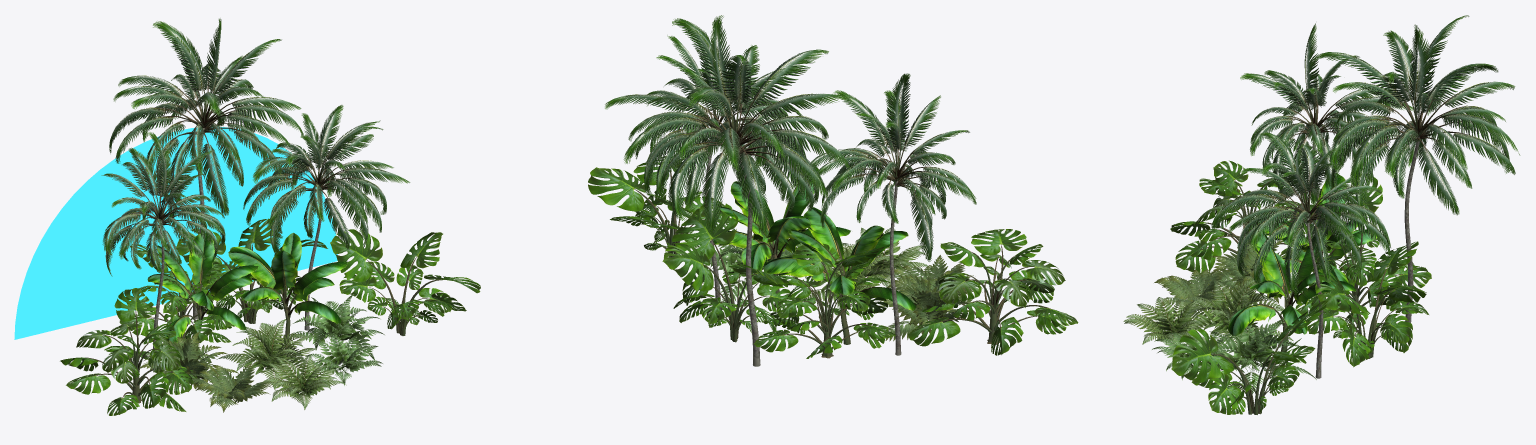
File: tropical_pack.glb
3 views of the same model, side by side, from view 1: azimuth 30°, elevation 25°; view 2: azimuth 150°, elevation 25°; view 3: azimuth 270°, elevation 25° (orthographic). The views are drawn at different scales.
Visible parts, largest first — view 1: SM_MZRa_Palm_B081_MI_MZRa_Palm_B08a_0, Circle_BG_01_0, tree.007SM_MZRa_Monstera_B072_MI_MZRa_Monstera_B07a1_0, SM_MZRa_Banana_B091_MI_MZRa_Banana_B09a_0, SM_MZRa_Fern_B0522_MI_MZRa_Fern_B052_0, SM_MZRa_Fern_B0532_MI_MZRa_Fern_B053_0, SM_MZRa_Palm_B081_MI_MZRa_Palm_B08b_0, SM_MZRa_Fern_B0512_MI_MZRa_Fern_B051_0, tree.006SM_MZRa_Monstera_B071_MI_MZRa_Monstera_B07a2_0, tree.007SM_MZRa_Monstera_B072_MI_MZRa_Monstera_B07b_0, SM_MZRa_Banana_B091_MI_MZRa_Banana_B09b_0; view 2: SM_MZRa_Palm_B081_MI_MZRa_Palm_B08a_0, tree.007SM_MZRa_Monstera_B072_MI_MZRa_Monstera_B07a1_0, SM_MZRa_Banana_B091_MI_MZRa_Banana_B09a_0, SM_MZRa_Palm_B081_MI_MZRa_Palm_B08b_0, tree.007SM_MZRa_Monstera_B072_MI_MZRa_Monstera_B07b_0, SM_MZRa_Fern_B0512_MI_MZRa_Fern_B051_0, tree.006SM_MZRa_Monstera_B071_MI_MZRa_Monstera_B07a2_0, SM_MZRa_Fern_B0522_MI_MZRa_Fern_B052_0, SM_MZRa_Fern_B0532_MI_MZRa_Fern_B053_0, SM_MZRa_Banana_B091_MI_MZRa_Banana_B09b_0; view 3: SM_MZRa_Palm_B081_MI_MZRa_Palm_B08a_0, tree.007SM_MZRa_Monstera_B072_MI_MZRa_Monstera_B07a1_0, SM_MZRa_Banana_B091_MI_MZRa_Banana_B09a_0, SM_MZRa_Fern_B0522_MI_MZRa_Fern_B052_0, SM_MZRa_Palm_B081_MI_MZRa_Palm_B08b_0, SM_MZRa_Fern_B0532_MI_MZRa_Fern_B053_0, SM_MZRa_Fern_B0512_MI_MZRa_Fern_B051_0, tree.007SM_MZRa_Monstera_B072_MI_MZRa_Monstera_B07b_0, tree.006SM_MZRa_Monstera_B071_MI_MZRa_Monstera_B07a2_0, SM_MZRa_Banana_B091_MI_MZRa_Banana_B09b_0.
Part boxes in pixels (x1,y1,x2,y2): SM_MZRa_Palm_B081_MI_MZRa_Palm_B08a_0: [101, 18, 410, 276]; Circle_BG_01_0: [14, 127, 337, 339]; tree.007SM_MZRa_Monstera_B072_MI_MZRa_Monstera_B07a1_0: [60, 218, 480, 415]; SM_MZRa_Banana_B091_MI_MZRa_Banana_B09a_0: [147, 232, 348, 344]; SM_MZRa_Fern_B0522_MI_MZRa_Fern_B052_0: [216, 319, 346, 409]; SM_MZRa_Fern_B0532_MI_MZRa_Fern_B053_0: [285, 294, 384, 385]; SM_MZRa_Palm_B081_MI_MZRa_Palm_B08b_0: [122, 76, 360, 365]; SM_MZRa_Fern_B0512_MI_MZRa_Fern_B051_0: [140, 331, 275, 412]; tree.006SM_MZRa_Monstera_B071_MI_MZRa_Monstera_B07a2_0: [76, 321, 181, 383]; tree.007SM_MZRa_Monstera_B072_MI_MZRa_Monstera_B07b_0: [85, 241, 442, 403]; SM_MZRa_Banana_B091_MI_MZRa_Banana_B09b_0: [181, 265, 313, 348]; SM_MZRa_Palm_B081_MI_MZRa_Palm_B08a_0: [605, 15, 976, 261]; tree.007SM_MZRa_Monstera_B072_MI_MZRa_Monstera_B07a1_0: [588, 148, 1078, 358]; SM_MZRa_Banana_B091_MI_MZRa_Banana_B09a_0: [713, 165, 916, 310]; SM_MZRa_Palm_B081_MI_MZRa_Palm_B08b_0: [673, 82, 933, 366]; tree.007SM_MZRa_Monstera_B072_MI_MZRa_Monstera_B07b_0: [633, 170, 1053, 358]; SM_MZRa_Fern_B0512_MI_MZRa_Fern_B051_0: [875, 255, 982, 341]; tree.006SM_MZRa_Monstera_B071_MI_MZRa_Monstera_B07a2_0: [937, 254, 1065, 307]; SM_MZRa_Fern_B0522_MI_MZRa_Fern_B052_0: [794, 227, 927, 307]; SM_MZRa_Fern_B0532_MI_MZRa_Fern_B053_0: [703, 224, 849, 310]; SM_MZRa_Banana_B091_MI_MZRa_Banana_B09b_0: [744, 208, 879, 344]; SM_MZRa_Palm_B081_MI_MZRa_Palm_B08a_0: [1211, 15, 1520, 294]; tree.007SM_MZRa_Monstera_B072_MI_MZRa_Monstera_B07a1_0: [1170, 160, 1431, 414]; SM_MZRa_Banana_B091_MI_MZRa_Banana_B09a_0: [1228, 173, 1377, 335]; SM_MZRa_Fern_B0522_MI_MZRa_Fern_B052_0: [1123, 279, 1293, 349]; SM_MZRa_Palm_B081_MI_MZRa_Palm_B08b_0: [1264, 75, 1470, 378]; SM_MZRa_Fern_B0532_MI_MZRa_Fern_B053_0: [1152, 319, 1316, 393]; SM_MZRa_Fern_B0512_MI_MZRa_Fern_B051_0: [1154, 238, 1302, 312]; tree.007SM_MZRa_Monstera_B072_MI_MZRa_Monstera_B07b_0: [1201, 179, 1404, 414]; tree.006SM_MZRa_Monstera_B071_MI_MZRa_Monstera_B07a2_0: [1194, 178, 1311, 228]; SM_MZRa_Banana_B091_MI_MZRa_Banana_B09b_0: [1255, 232, 1339, 352].
Bounding box in the file's own units: 10.36 × 7.27 × 7.67.
Materials: 11 (10 with a texture image).
